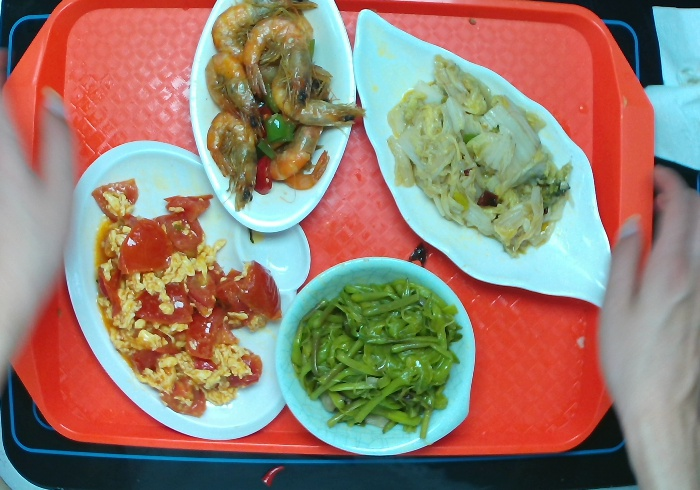RJxy-Bai_Se_Tuo_Yuan: (186, 1, 360, 239)
RJxy-Shu_Ye_Pan: (348, 4, 620, 317)
RJxy-Xiao_Jiao_Yuan_Wan: (275, 253, 484, 462)
RJxy-Zhan_Liao_Pan: (58, 133, 314, 446)
